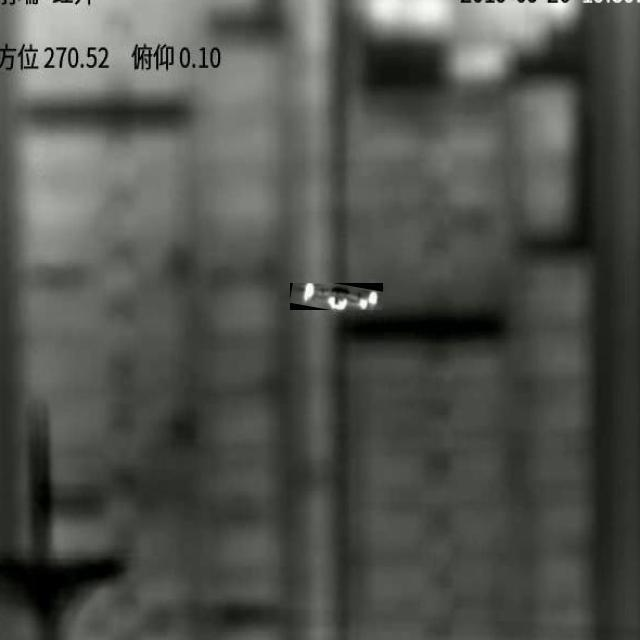drone: (291, 283, 383, 310)
